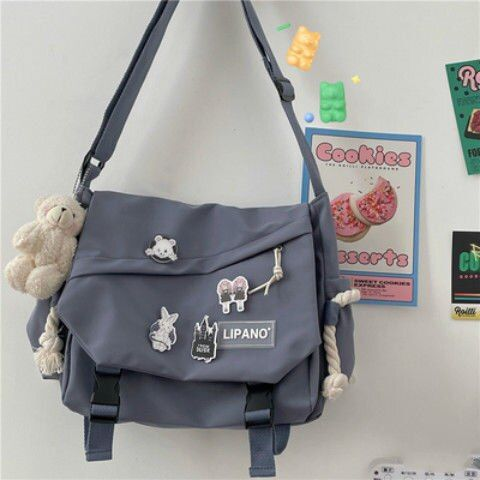nylon: (25, 3, 355, 480)
